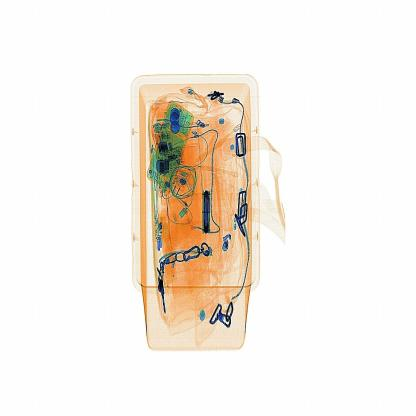scissors: (199, 188, 214, 238)
